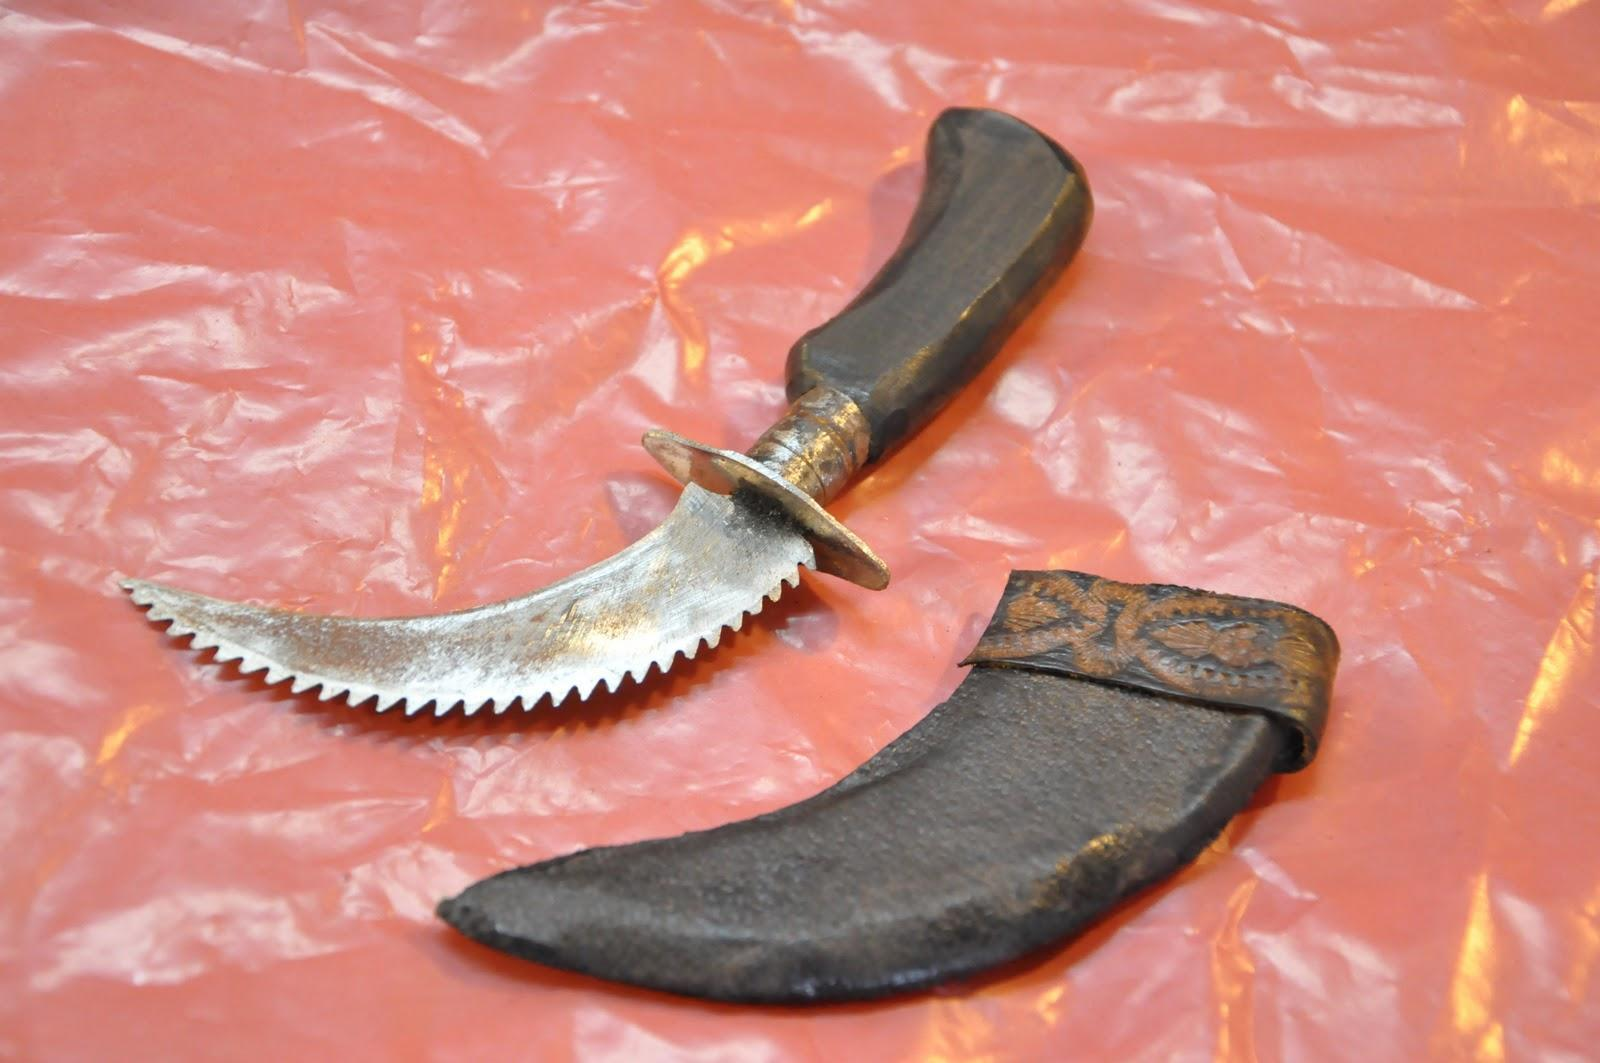faca: (122, 109, 1091, 714)
